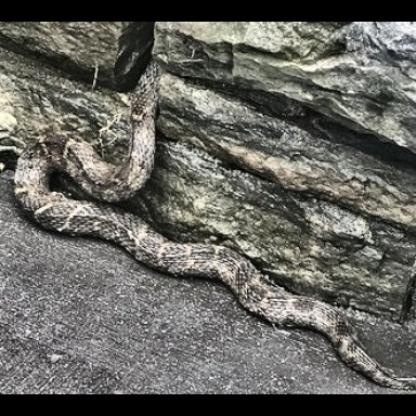Snake: (7, 34, 412, 315), (3, 14, 200, 278)
